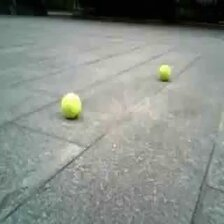tennis: (60, 93, 81, 114), (158, 65, 171, 82)
